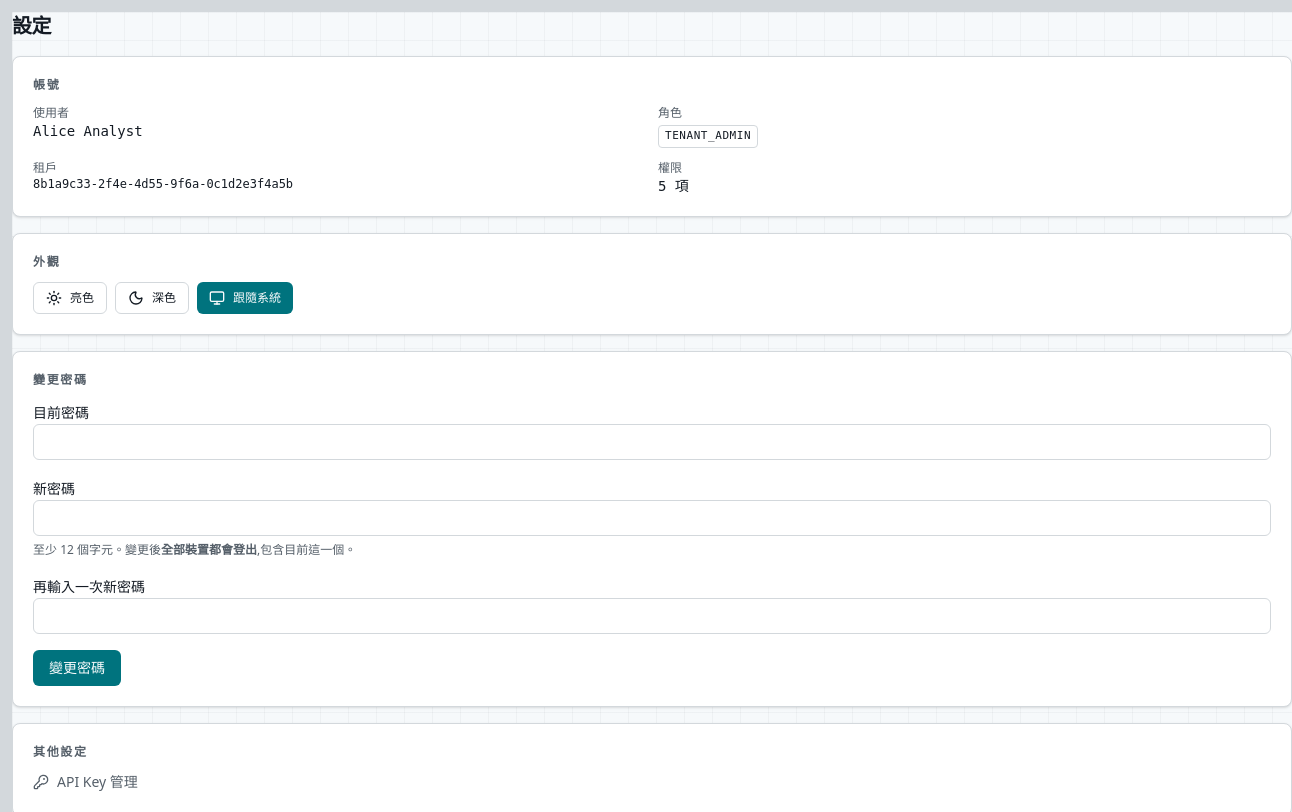
Test: SettingsPage › 兩次新密碼不一致時擋住送出
Type "current-password-1234" into the password field labelled "目前密碼" at [652, 442], box [33,424,1271,460]
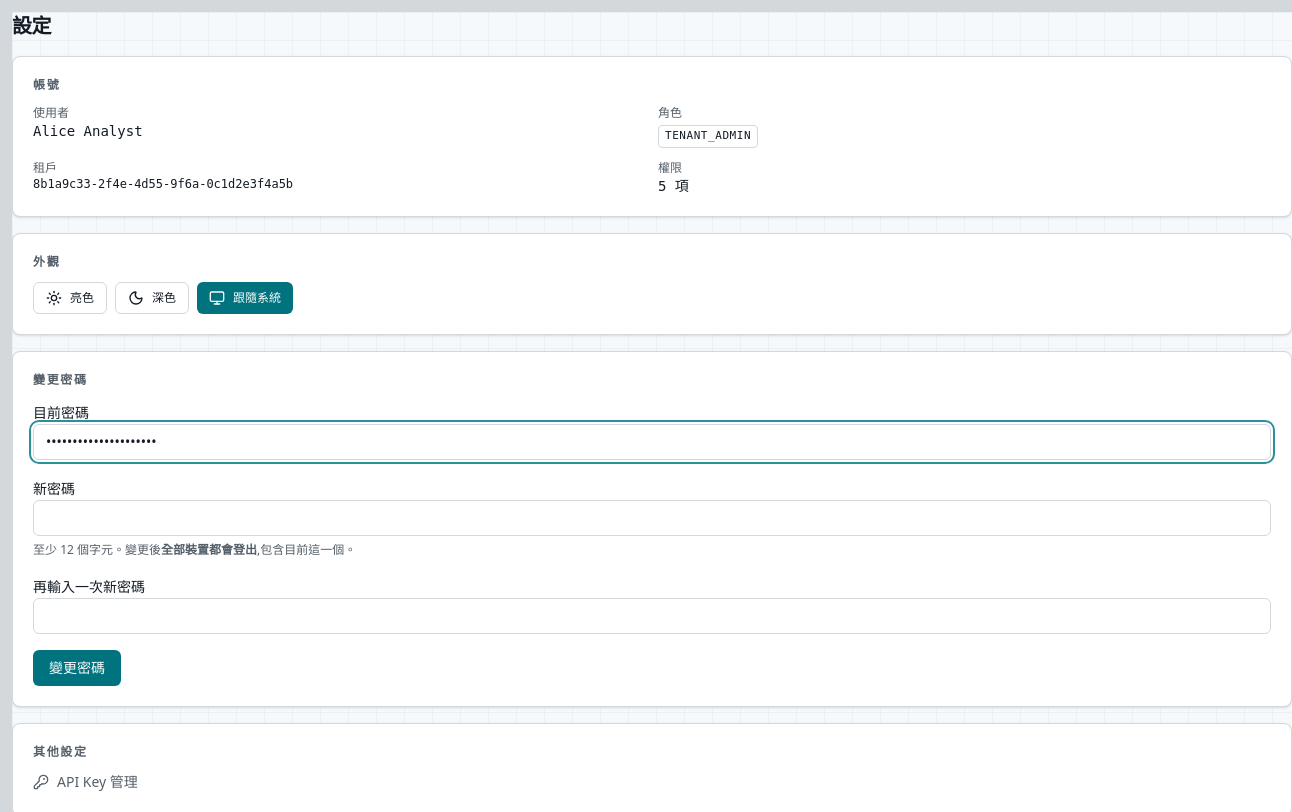
Type "brand-new-password-1234" into the password field labelled "新密碼" at [652, 518], box [33,500,1271,536]
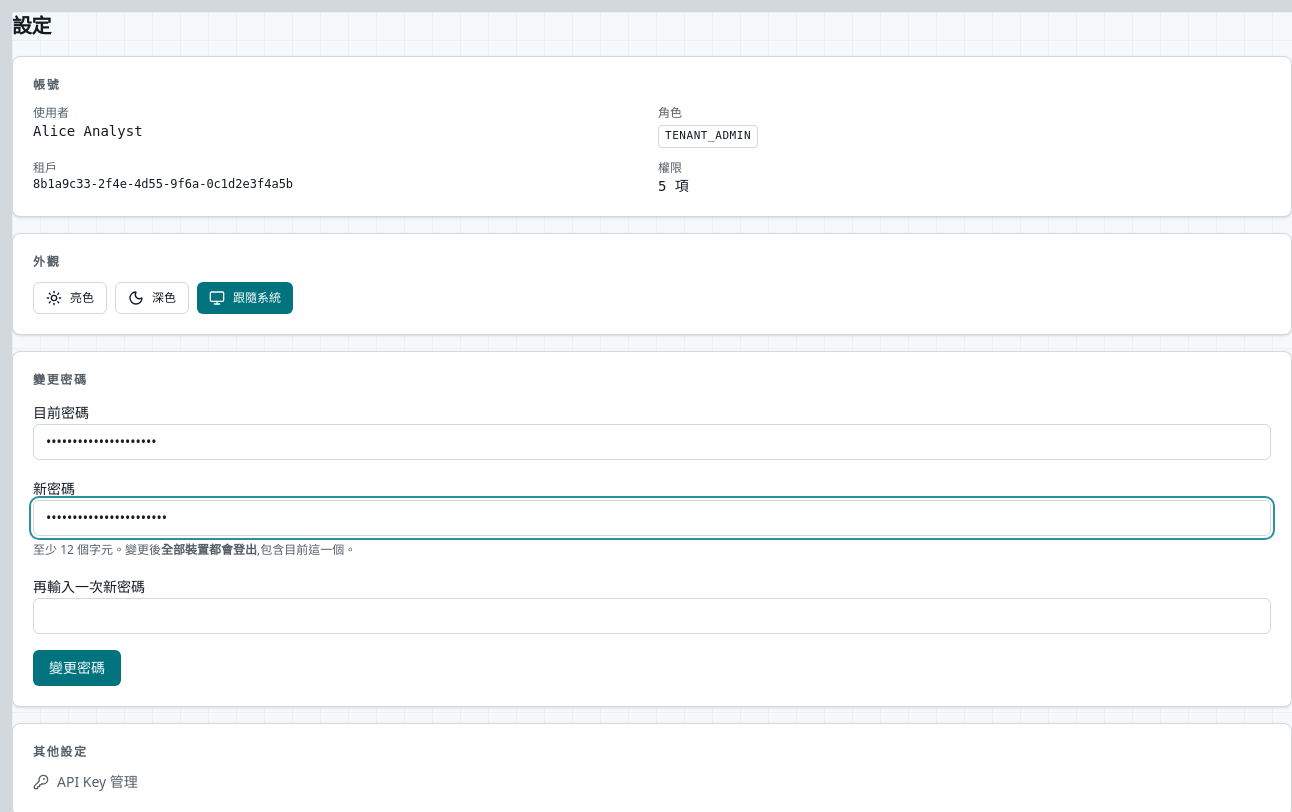
Type "typo-typo-typo-1234" into the password field labelled "再輸入一次新密碼" at [652, 616], box [33,598,1271,634]
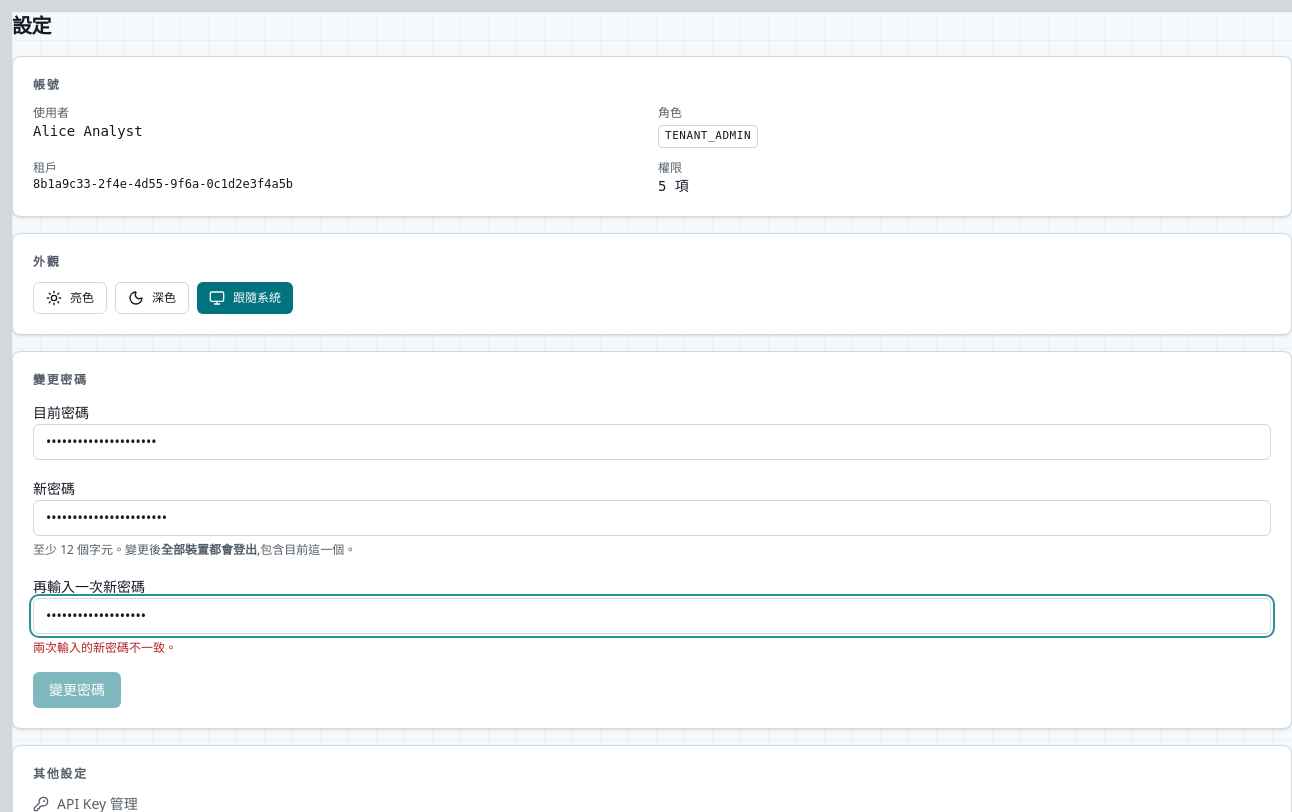
Expected: the message shows "兩次輸入的新密碼不一致", [33,638,177,656]
Expected: the button "變更密碼" is disabled, [33,672,121,708]
